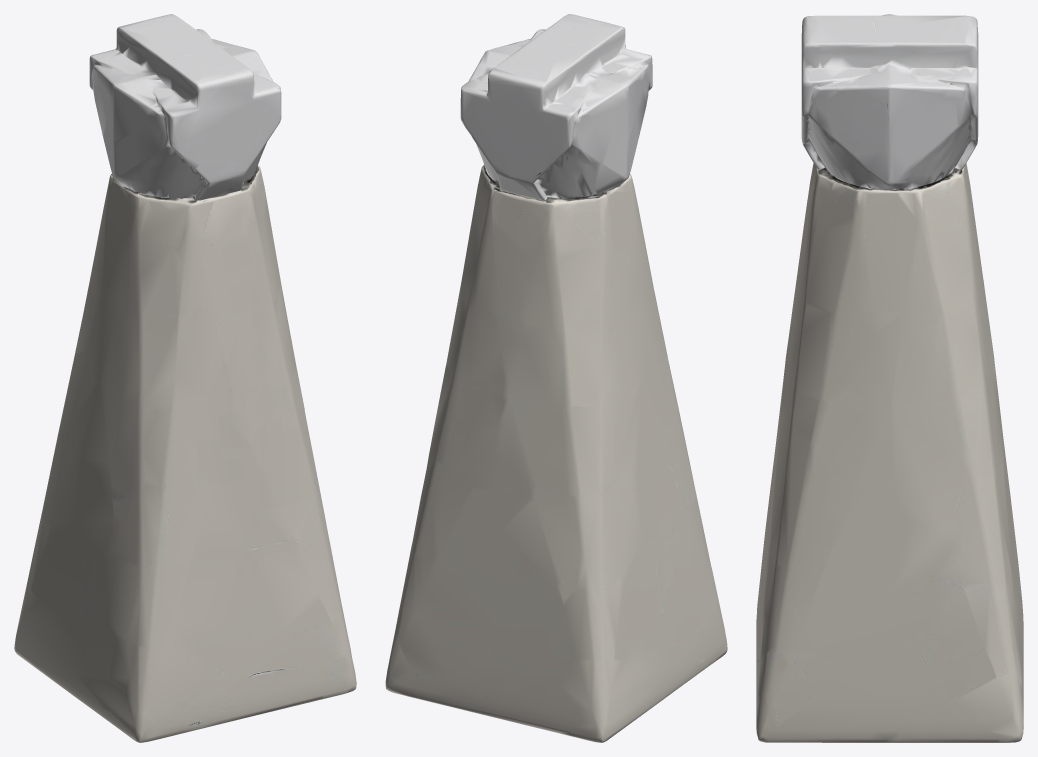
Rendered from rook-white.glb.
3 views of the same model, side by side, from view 1: azimuth 30°, elevation 25°; view 2: azimuth 150°, elevation 25°; view 3: azimuth 270°, elevation 25° (orthographic). The views are drawn at different scales.
Size of the model in its own units: 0.4609 by 1.25 by 0.4592.
1 material, 1 textured.
